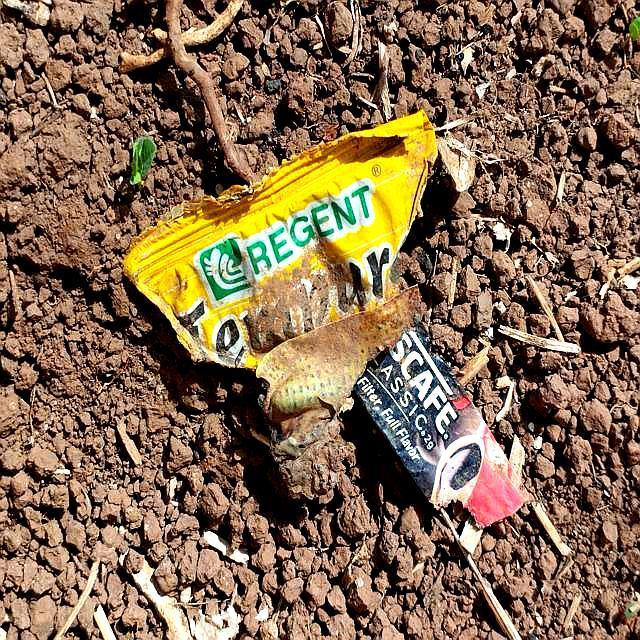Non-biodegradable: (123, 107, 529, 529)
